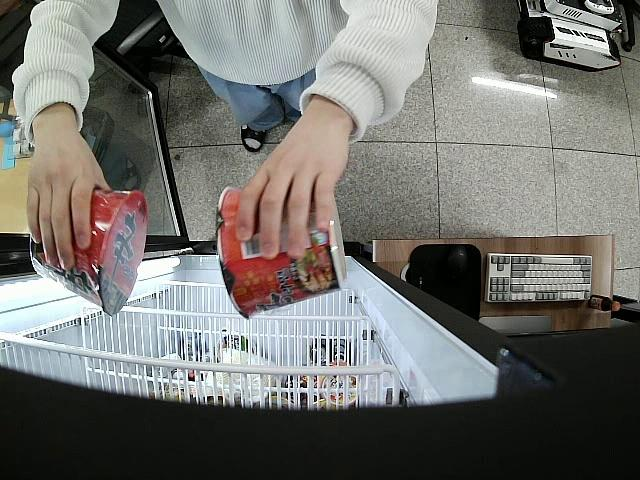00_hand: (235, 101, 350, 259), (26, 120, 110, 271)
01_shinRamen_L: (215, 186, 347, 321), (30, 188, 146, 315)
